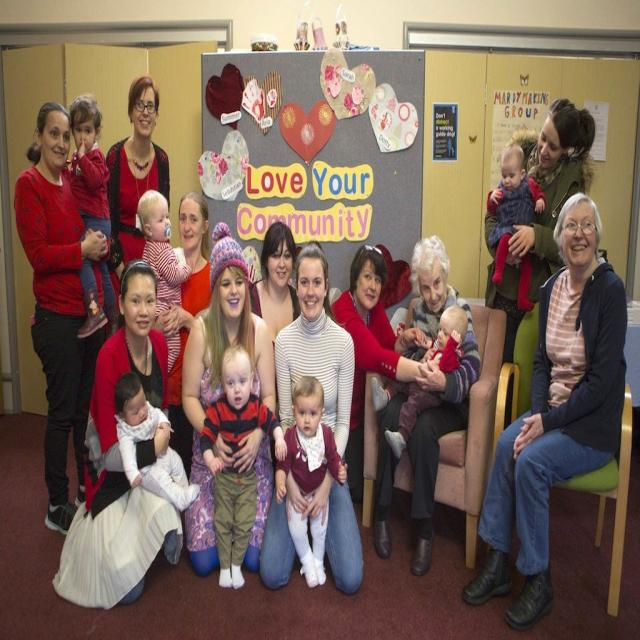body: (457, 187, 629, 635), (12, 100, 112, 537), (258, 238, 365, 594), (373, 234, 482, 577), (181, 221, 278, 579), (82, 258, 170, 608), (328, 240, 443, 489), (482, 96, 582, 367), (196, 338, 291, 598), (151, 189, 214, 483), (271, 370, 351, 592), (102, 73, 172, 321), (368, 296, 469, 462), (112, 365, 203, 523), (68, 94, 120, 340), (136, 185, 192, 375), (486, 142, 546, 314), (246, 220, 303, 345)
